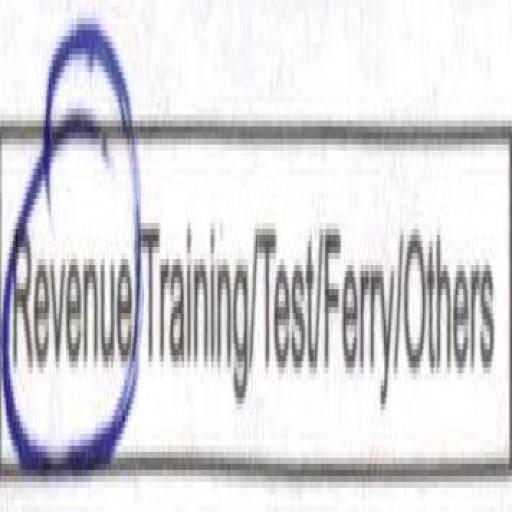check: (0, 24, 140, 512)
